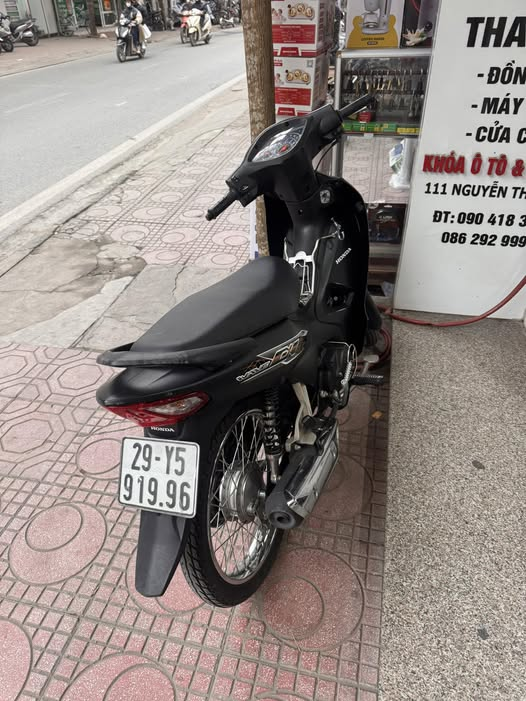bien_so: (116, 431, 206, 522)
